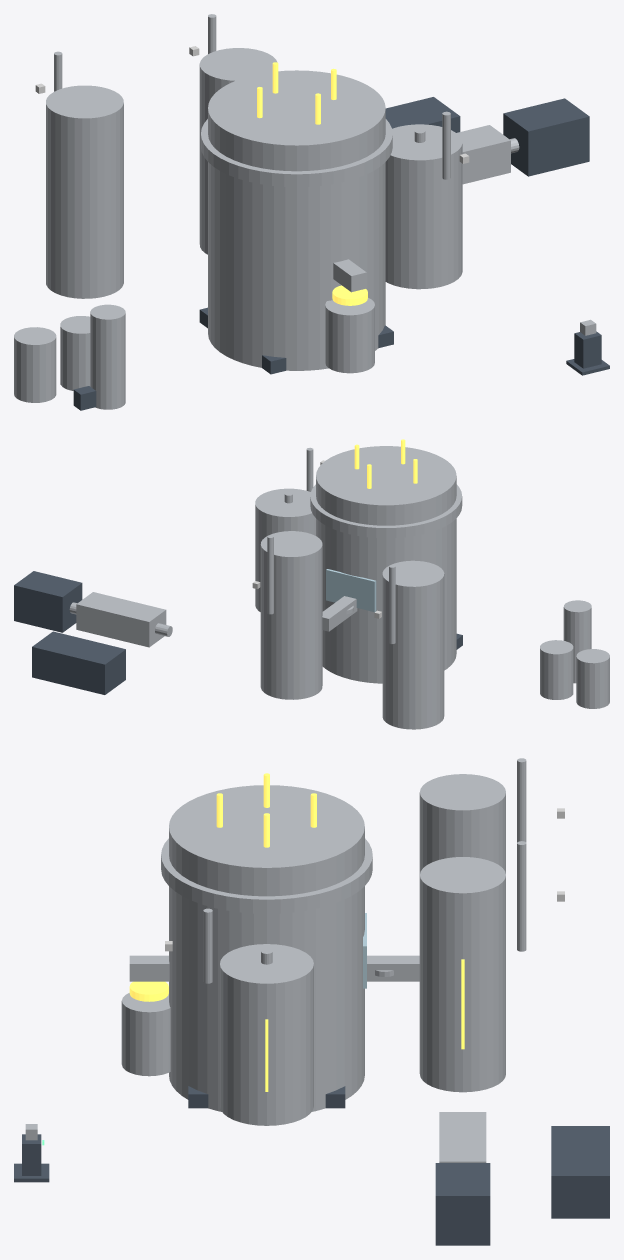
Rendered from PlantEquipment.fbx.
3 renders of one model, top to bottom at view 1: azimuth 30°, elevation 25°; view 2: azimuth 150°, elevation 25°; view 3: azimuth 270°, elevation 25°, orthographic. The views are drawn at different scales.
Parts seen in each view (by area): view 1: ReactorPressureVessel, RPV_HeadDome, SteamGenerator_1, Pressurizer_Vessel, Generator_Stator, RPV_HeadFlange, Demineralizer_Column, SteamGenerator_1_Head, ReactorCoolantPump_1, ChemTank_NaOH, Turbine_Casing_HP, SteamGenerator_2_Head (+8 smaller); view 2: ReactorPressureVessel, RPV_HeadDome, SteamGenerator_2, SteamGenerator_1, Condenser_Box, Turbine_Casing_HP, Generator_Stator, Pressurizer_Vessel, RPV_HeadFlange, SteamGenerator_2_Head, SteamGenerator_1_Head, ChemTank_NaOH (+6 smaller); view 3: ReactorPressureVessel, RPV_HeadDome, Pressurizer_Vessel, SteamGenerator_2, Condenser_Box, Generator_Stator, RPV_HeadFlange, SteamGenerator_2_Head, SteamGenerator_1_Head, ReactorCoolantPump_1, SteamGenerator_1, Turbine_Casing_HP (+8 smaller).
Part boxes in pixels (<box>): ReactorPressureVessel: <box>208,162,385,370</box>; RPV_HeadDome: <box>208,70,385,171</box>; SteamGenerator_1: <box>46,123,123,298</box>; Pressurizer_Vessel: <box>385,124,462,289</box>; Generator_Stator: <box>503,98,589,176</box>; RPV_HeadFlange: <box>201,119,392,187</box>; Demineralizer_Column: <box>90,304,125,409</box>; SteamGenerator_1_Head: <box>46,85,123,137</box>; ReactorCoolantPump_1: <box>325,298,374,373</box>; ChemTank_NaOH: <box>14,327,56,402</box>; Turbine_Casing_HP: <box>457,125,510,184</box>; SteamGenerator_2_Head: <box>199,48,277,95</box>; ReactorPressureVessel: <box>316,518,456,683</box>; RPV_HeadDome: <box>316,446,456,525</box>; SteamGenerator_2: <box>260,559,322,699</box>; SteamGenerator_1: <box>382,589,444,729</box>; Condenser_Box: <box>32,631,125,694</box>; Turbine_Casing_HP: <box>76,592,166,647</box>; Generator_Stator: <box>14,571,82,632</box>; Pressurizer_Vessel: <box>255,488,315,611</box>; RPV_HeadFlange: <box>310,484,462,538</box>; SteamGenerator_2_Head: <box>260,531,322,572</box>; SteamGenerator_1_Head: <box>382,560,444,601</box>; ChemTank_NaOH: <box>576,649,609,708</box>; ReactorPressureVessel: <box>169,886,364,1111</box>; RPV_HeadDome: <box>169,785,364,896</box>; Pressurizer_Vessel: <box>220,944,313,1125</box>; SteamGenerator_2: <box>419,896,505,1092</box>; Condenser_Box: <box>551,1126,609,1218</box>; Generator_Stator: <box>435,1163,490,1245</box>; RPV_HeadFlange: <box>161,838,372,913</box>; SteamGenerator_2_Head: <box>419,857,505,914</box>; SteamGenerator_1_Head: <box>419,774,505,831</box>; ReactorCoolantPump_1: <box>121,993,170,1076</box>; SteamGenerator_1: <box>419,814,505,874</box>; Turbine_Casing_HP: <box>439,1112,486,1162</box>.
Size of the model in its own units: 21.1 by 7.9 by 15.2.
